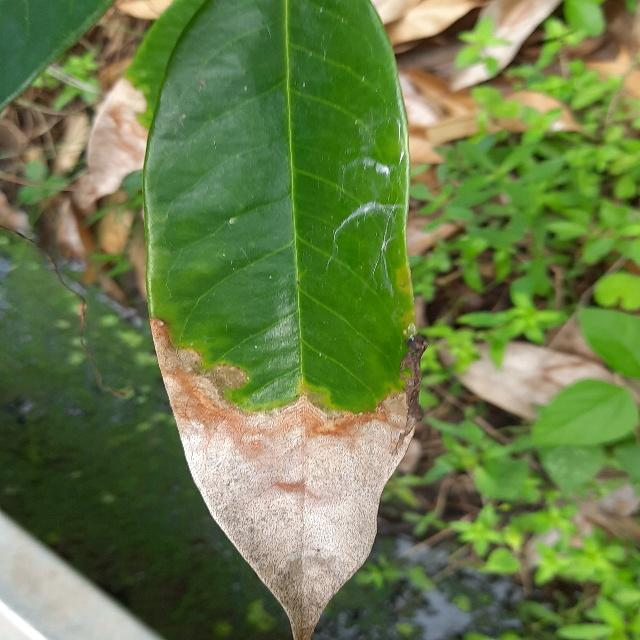Leaf Blight: (137, 0, 434, 640)
